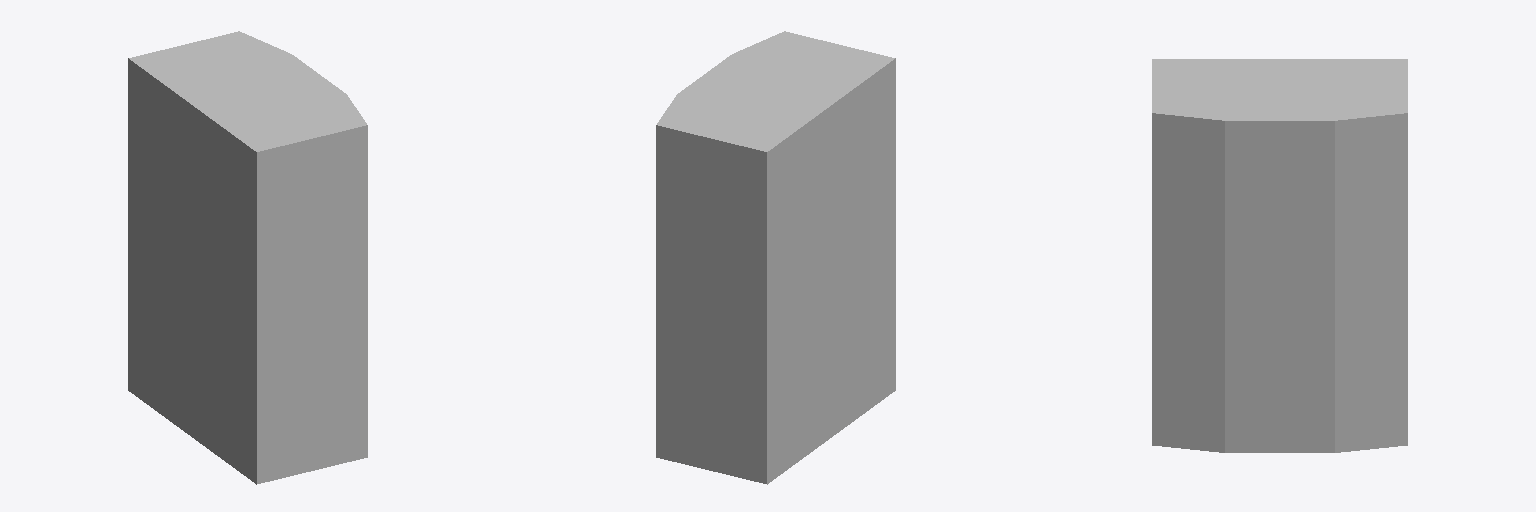
The model's file is zobemachine.obj.
The picture shows the model from 3 angles: view 1: azimuth 30°, elevation 25°; view 2: azimuth 150°, elevation 25°; view 3: azimuth 270°, elevation 25°; orthographic projection.
Parts seen in each view (by area): view 1: PRLD07B.001; view 2: PRLD07B.001; view 3: PRLD07B.001.
Boxes of the visible parts, box(x1,y1,x2,y2) form: PRLD07B.001: box(128, 31, 367, 484); PRLD07B.001: box(656, 31, 895, 484); PRLD07B.001: box(1152, 59, 1407, 452).
Size of the model in its own units: 32 by 80 by 56.